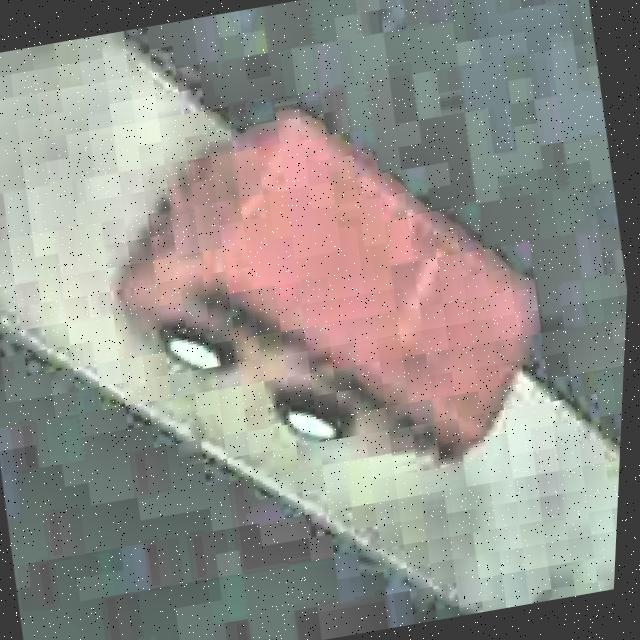bus: (78, 73, 574, 514)
